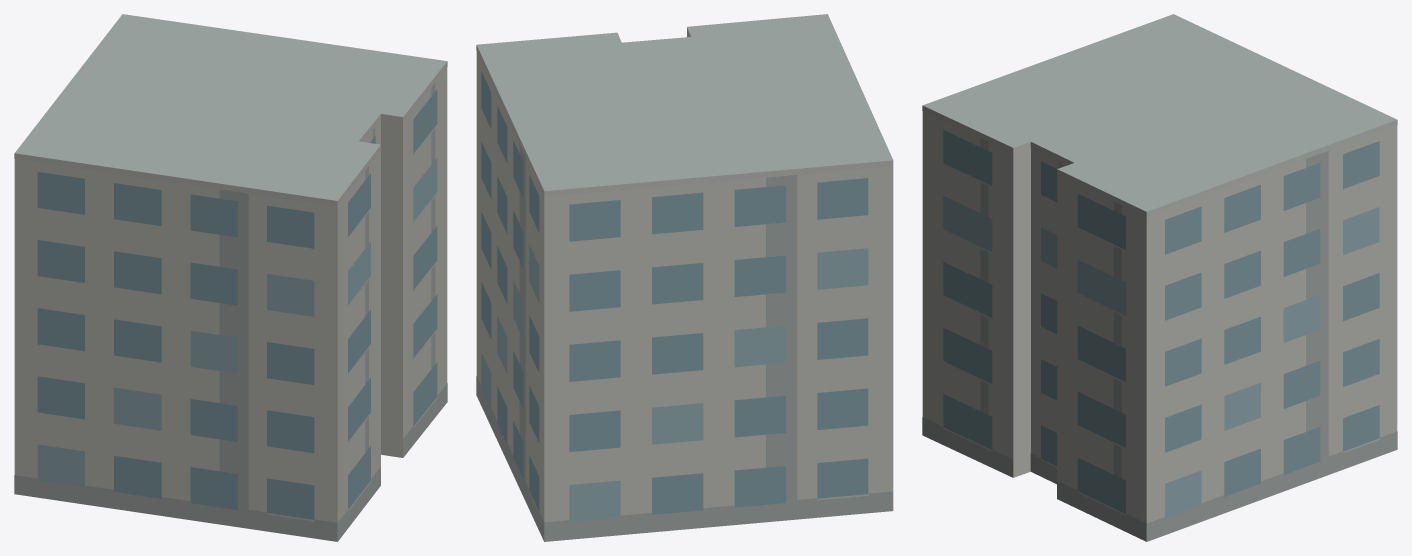
Rendered from survey-upis-32979940.glb.
3 views of the same model, side by side, from view 1: azimuth 30°, elevation 25°; view 2: azimuth 150°, elevation 25°; view 3: azimuth 270°, elevation 25° (orthographic). The views are drawn at different scales.
Parts seen in each view (by area): view 1: survey-upis-32979940.tmp; view 2: survey-upis-32979940.tmp; view 3: survey-upis-32979940.tmp.
Boxes of the visible parts, x1=… form: survey-upis-32979940.tmp: x1=14, y1=14, x2=447, y2=541; survey-upis-32979940.tmp: x1=476, y1=14, x2=893, y2=541; survey-upis-32979940.tmp: x1=922, y1=14, x2=1397, y2=541.
Bounding box in the file's own units: 18.4 × 14.3 × 18.66.
